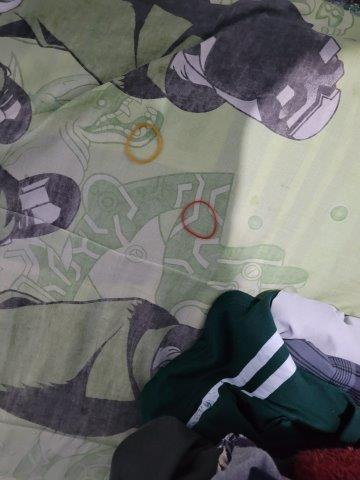karet: (123, 122, 164, 164), (179, 201, 218, 240)
